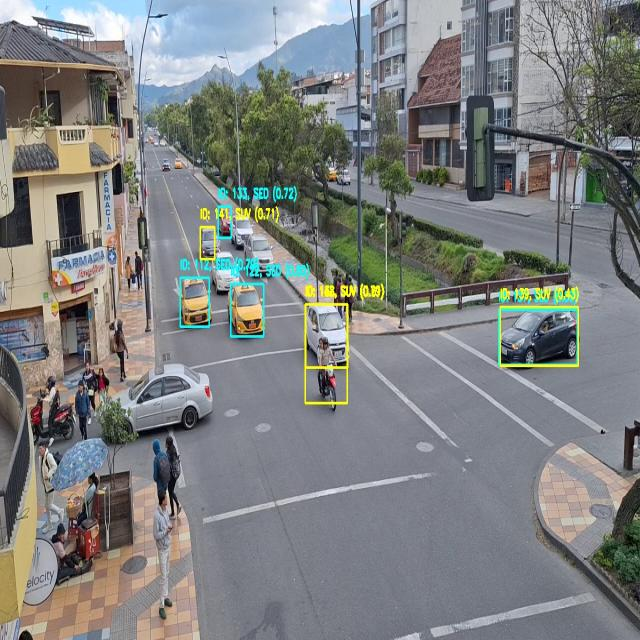CMT: (244, 236, 273, 276)
MOTORCYCLE: (32, 400, 77, 446), (320, 358, 340, 409)
SED: (117, 368, 212, 434), (498, 312, 577, 368), (304, 307, 346, 366), (230, 284, 265, 336), (180, 277, 212, 324), (200, 226, 218, 258)
SUV: (232, 217, 253, 247)
